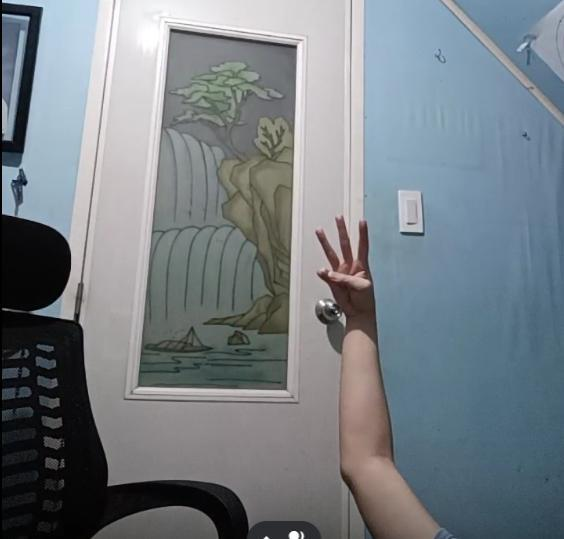w: (316, 211, 378, 311)
